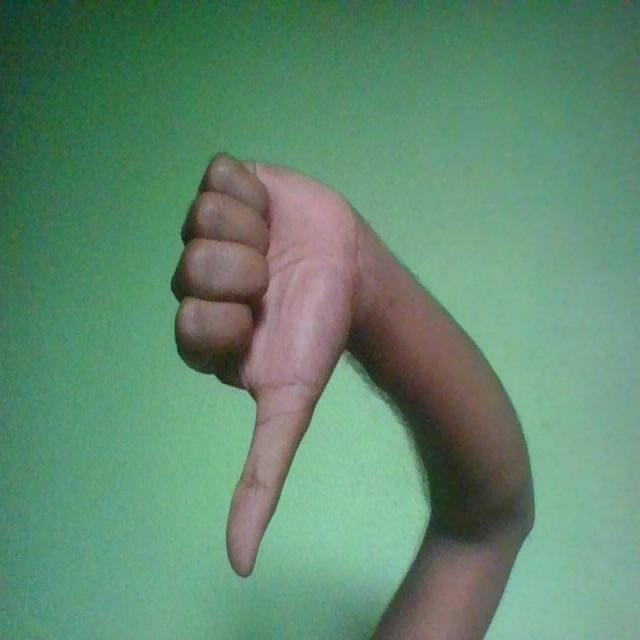Dislike: (172, 152, 365, 580)
